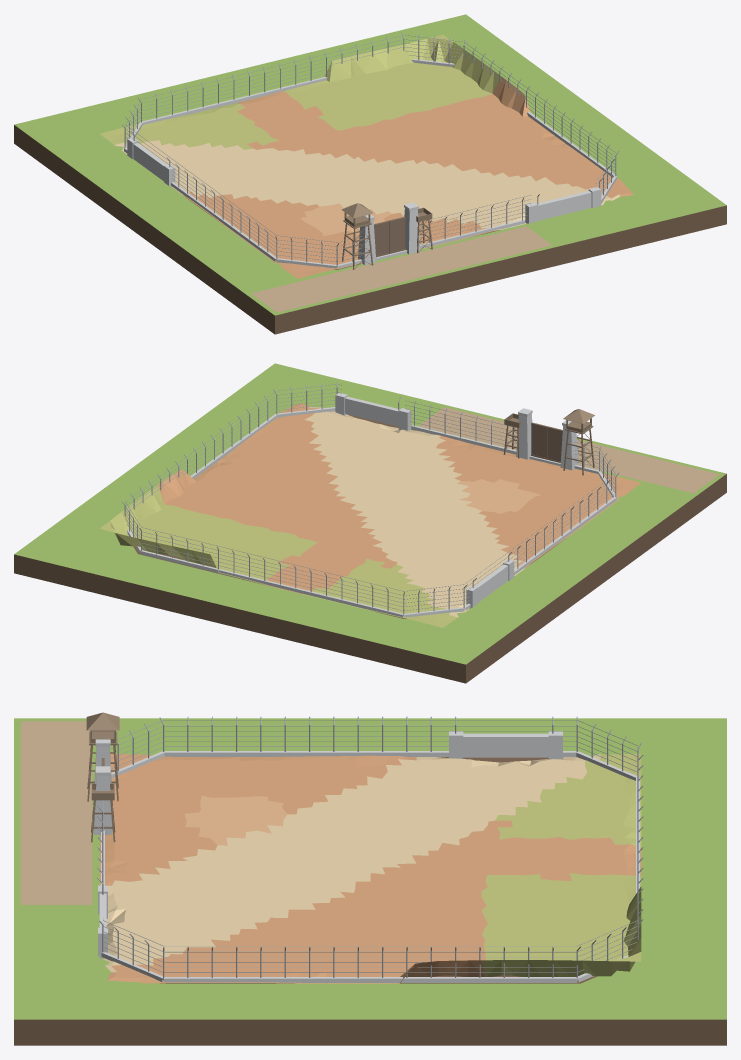
File: enclosure_clean_100x100.glb
The picture shows the model from 3 angles, top to bottom: view 1: azimuth 30°, elevation 25°; view 2: azimuth 150°, elevation 25°; view 3: azimuth 270°, elevation 25°; orthographic projection. The views are drawn at different scales.
Visible parts, largest first — view 1: Enclosure_Terrain, Outer_Lawn_Border, Diorama_Base_Sides, Access_Road, Fence_Rails, Fence_Foundation, Fence_Posts, Floodgate_Portals, Main_Gate_Pylons, Watchtower_Main, Main_Gate_Doors; view 2: Enclosure_Terrain, Outer_Lawn_Border, Diorama_Base_Sides, Access_Road, Fence_Rails, Fence_Foundation, Fence_Posts, Floodgate_Portals, Main_Gate_Pylons, Main_Gate_Doors, Watchtower_Main; view 3: Enclosure_Terrain, Outer_Lawn_Border, Diorama_Base_Sides, Access_Road, Fence_Rails, Fence_Foundation, Fence_Posts, Floodgate_Portals, Main_Gate_Pylons, Watchtower_Main, Watchtower_East.
Part boxes in pixels (x1=…): Enclosure_Terrain: x1=100, y1=34, x2=633, y2=278; Outer_Lawn_Border: x1=14, y1=14, x2=726, y2=315; Diorama_Base_Sides: x1=14, y1=125, x2=726, y2=334; Access_Road: x1=251, y1=226, x2=551, y2=312; Fence_Rails: x1=125, y1=35, x2=615, y2=261; Fence_Foundation: x1=124, y1=59, x2=616, y2=268; Fence_Posts: x1=122, y1=32, x2=619, y2=265; Floodgate_Portals: x1=127, y1=137, x2=601, y2=223; Main_Gate_Pylons: x1=358, y1=202, x2=420, y2=265; Watchtower_Main: x1=341, y1=203, x2=373, y2=269; Main_Gate_Doors: x1=374, y1=216, x2=405, y2=257; Enclosure_Terrain: x1=100, y1=402, x2=640, y2=627; Outer_Lawn_Border: x1=14, y1=363, x2=726, y2=664; Diorama_Base_Sides: x1=14, y1=414, x2=726, y2=683; Access_Road: x1=418, y1=407, x2=719, y2=493; Fence_Rails: x1=125, y1=384, x2=615, y2=610; Fence_Foundation: x1=127, y1=407, x2=616, y2=617; Fence_Posts: x1=121, y1=381, x2=619, y2=614; Floodgate_Portals: x1=335, y1=393, x2=514, y2=608; Main_Gate_Pylons: x1=516, y1=408, x2=578, y2=470; Main_Gate_Doors: x1=531, y1=422, x2=562, y2=462; Watchtower_Main: x1=563, y1=409, x2=594, y2=475; Enclosure_Terrain: x1=99, y1=753, x2=641, y2=983; Outer_Lawn_Border: x1=14, y1=718, x2=726, y2=1019; Diorama_Base_Sides: x1=14, y1=757, x2=726, y2=1045; Access_Road: x1=21, y1=721, x2=92, y2=904; Fence_Rails: x1=103, y1=720, x2=637, y2=972; Fence_Foundation: x1=101, y1=751, x2=639, y2=982; Fence_Posts: x1=97, y1=716, x2=643, y2=977; Floodgate_Portals: x1=98, y1=731, x2=562, y2=958; Main_Gate_Pylons: x1=94, y1=739, x2=112, y2=834; Watchtower_Main: x1=86, y1=712, x2=119, y2=801; Watchtower_East: x1=91, y1=783, x2=115, y2=842.
Bounding box in the file's own units: 100 × 16.8 × 100.
